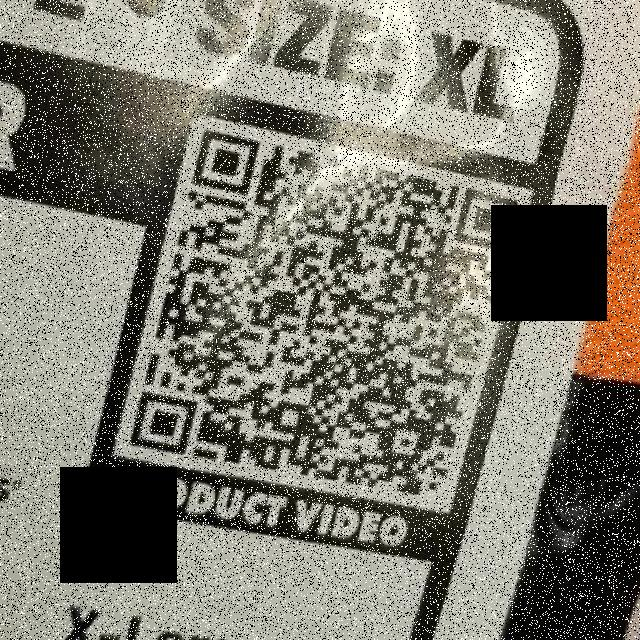QR_CODE: (116, 111, 535, 508)
